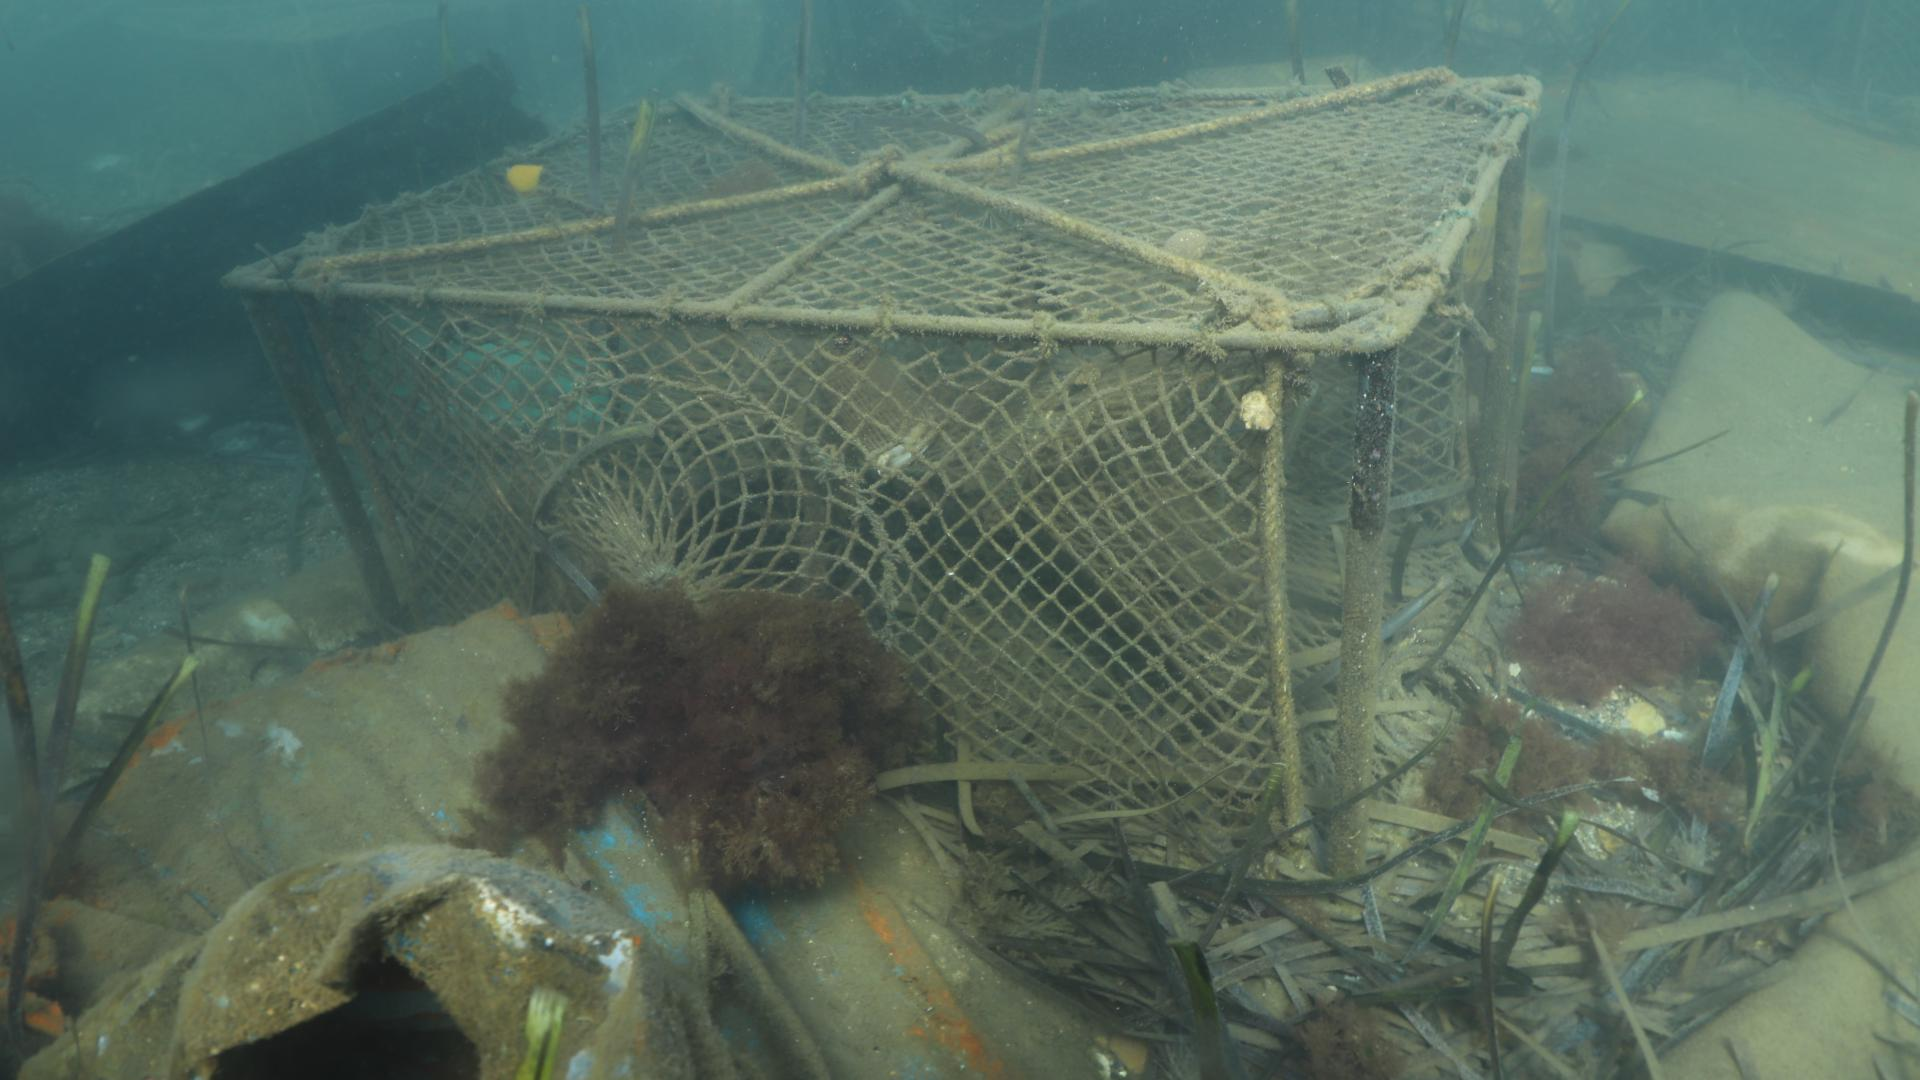rectangular fish trap: (222, 70, 1545, 891)
